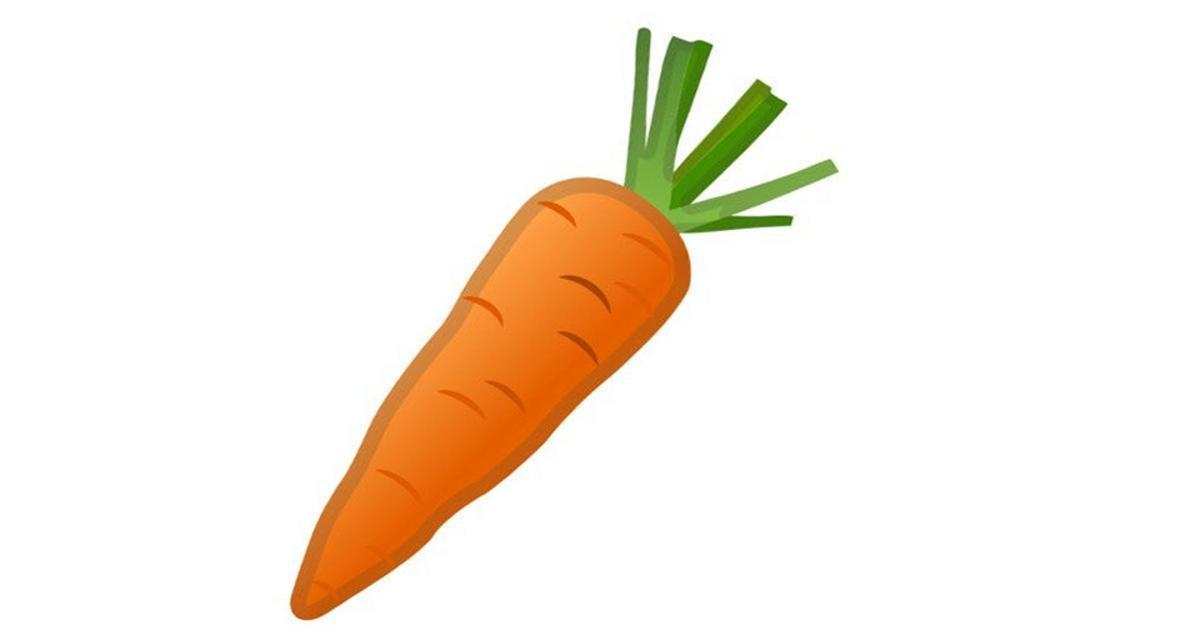carrot: (278, 155, 728, 616)
